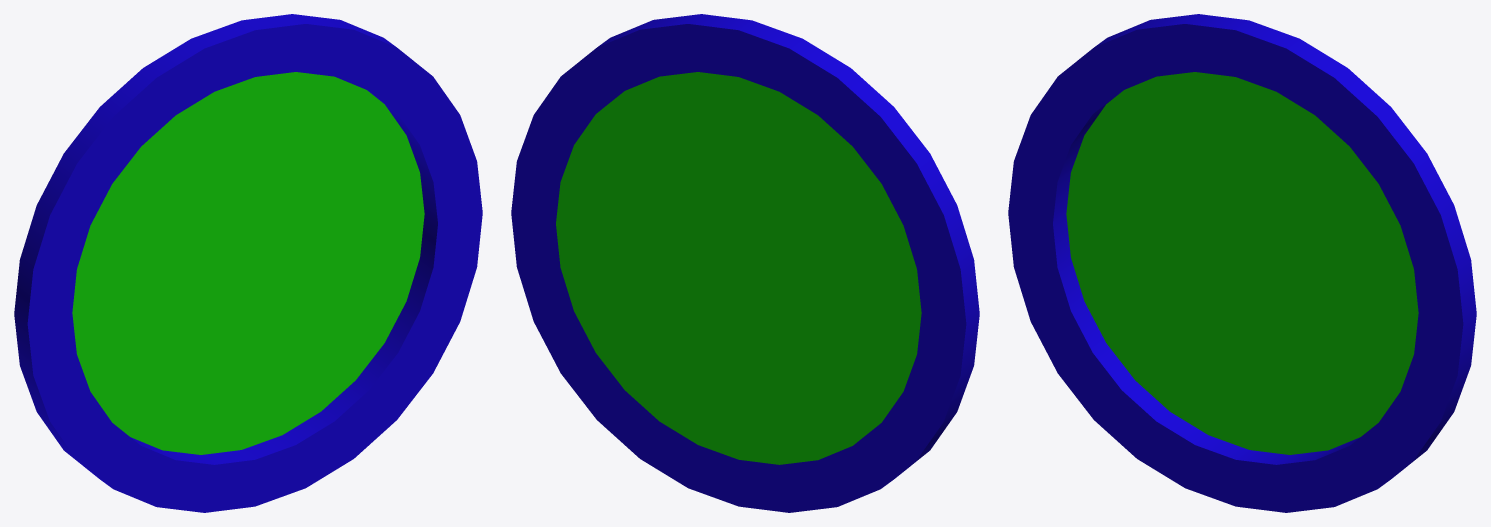
File: Frames2.fbx
3 views of the same model, side by side, from view 1: azimuth 30°, elevation 25°; view 2: azimuth 150°, elevation 25°; view 3: azimuth 330°, elevation 25° (orthographic).
Parts seen in each view (by area): view 1: Frames; view 2: Frames; view 3: Frames.
Part boxes in pixels (left/top/right/bottom): Frames: left=14, top=14, right=482, bottom=512; Frames: left=511, top=14, right=979, bottom=512; Frames: left=1008, top=14, right=1476, bottom=512.
Bounding box in the file's own units: 0.4198 × 0.4198 × 0.0215.
